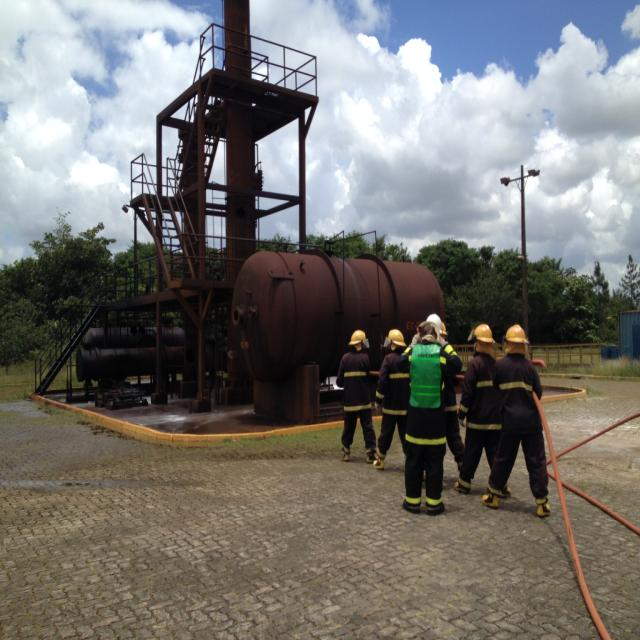no_fire: (40, 34, 635, 597)
